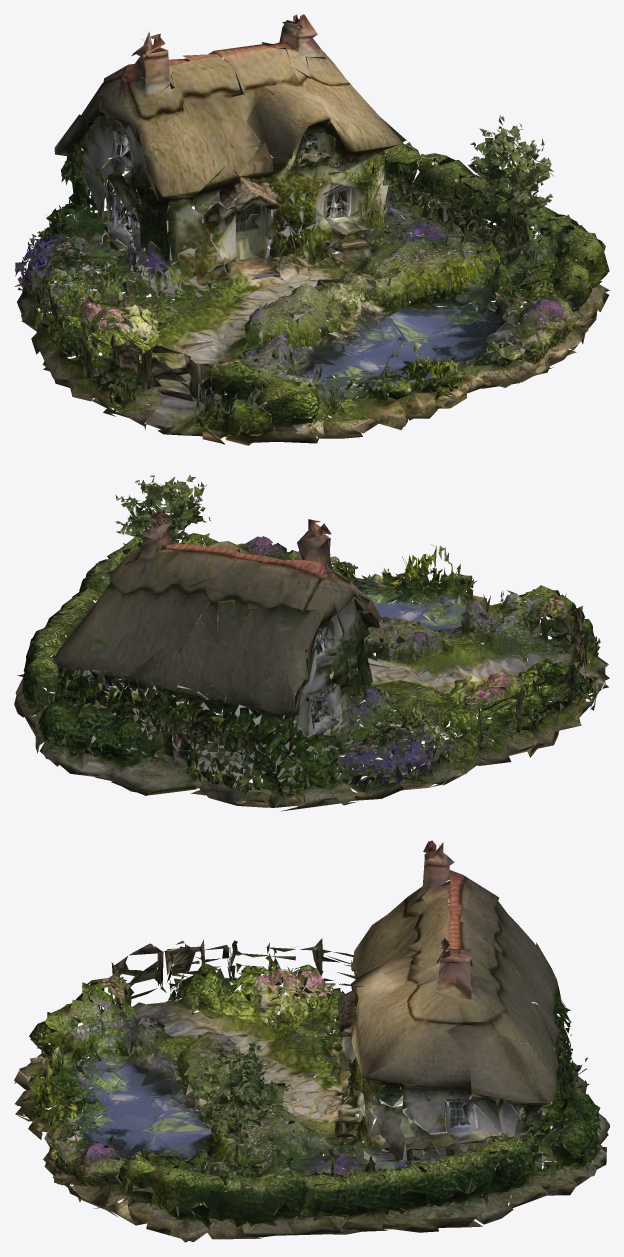
File: An_english_country_co_town.glb
3 views of the same model, one above another, from view 1: azimuth 30°, elevation 25°; view 2: azimuth 150°, elevation 25°; view 3: azimuth 270°, elevation 25° (orthographic). The views are drawn at different scales.
Visible parts, largest first — view 1: An_english_country_co; view 2: An_english_country_co; view 3: An_english_country_co.
Part boxes in pixels (<box>): An_english_country_co: <box>14,14,609,445</box>; An_english_country_co: <box>14,475,609,811</box>; An_english_country_co: <box>14,840,609,1242</box>.
Bounding box in the file's own units: 1.87 × 0.8714 × 1.9.
1 material, 1 textured.
